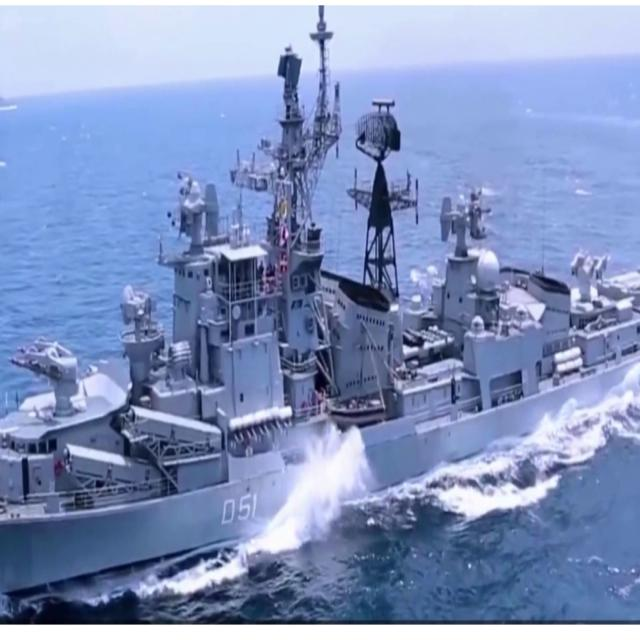OCR: (213, 484, 264, 535)
